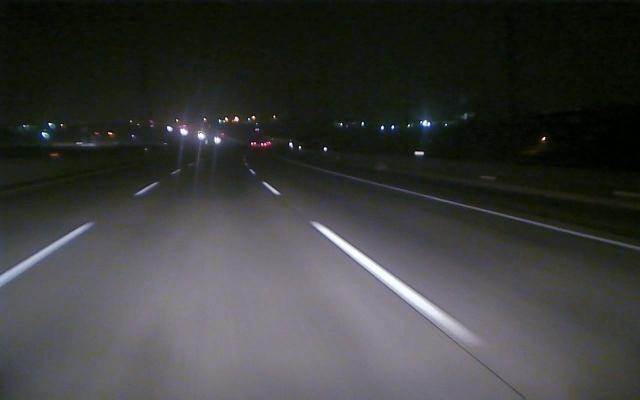lane: (261, 181, 487, 352), (338, 173, 639, 251), (1, 184, 155, 285)
